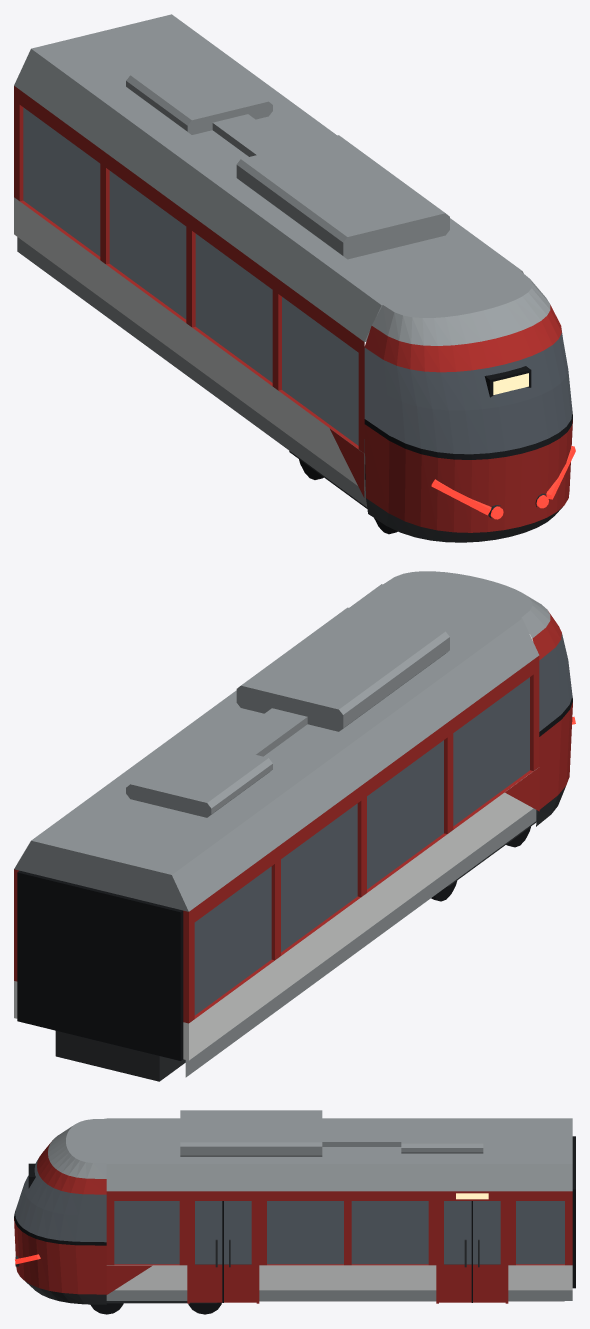
The picture shows the model from 3 angles, top to bottom: view 1: azimuth 30°, elevation 25°; view 2: azimuth 150°, elevation 25°; view 3: azimuth 270°, elevation 25°; orthographic projection. The views are drawn at different scales.
Parts seen in each view (by area): view 1: 15t-c; view 2: 15t-c; view 3: 15t-c.
Boxes of the visible parts, x1,y1,x2,y2 form: 15t-c: (14, 14, 575, 542); 15t-c: (14, 571, 575, 1081); 15t-c: (14, 1110, 575, 1314).
Bounding box in the file's own units: 2.47 × 3.36 × 10.3.
